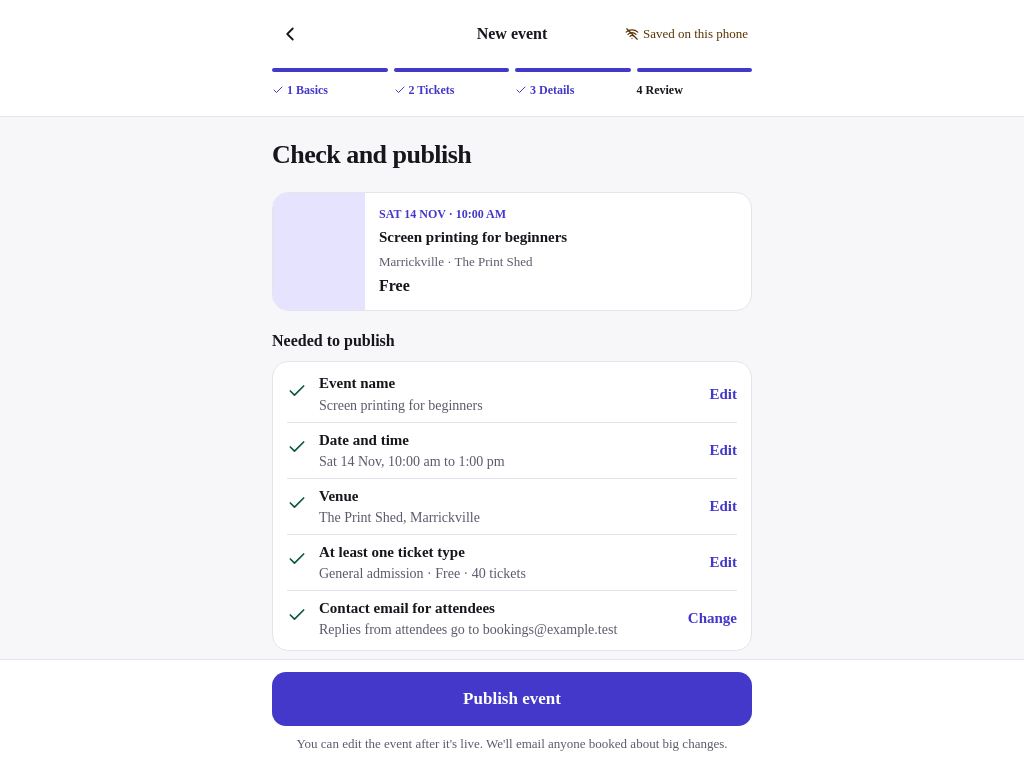
Test: create-event wizard › review and publish › publishes and shows the live screen
The width and height of the screenshot is (1024, 768).
Expected: the link named "1 Basics, completed" is shown, x1=271 y1=83 x2=330 y2=106
What coordinates should you click on to do the following:
click the button "Publish event"
I would click on:
 (512, 700)
Its box is x1=272 y1=672 x2=752 y2=726.
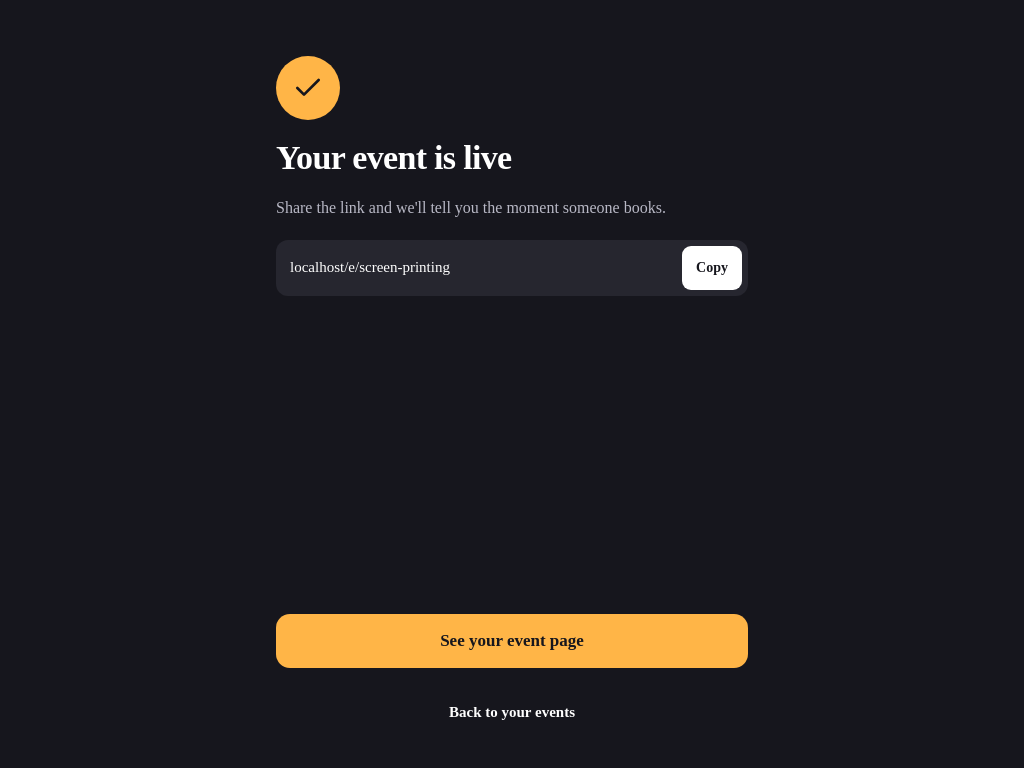
Expected: the text "localhost/e/screen-printing" is shown, x1=290 y1=259 x2=450 y2=275
